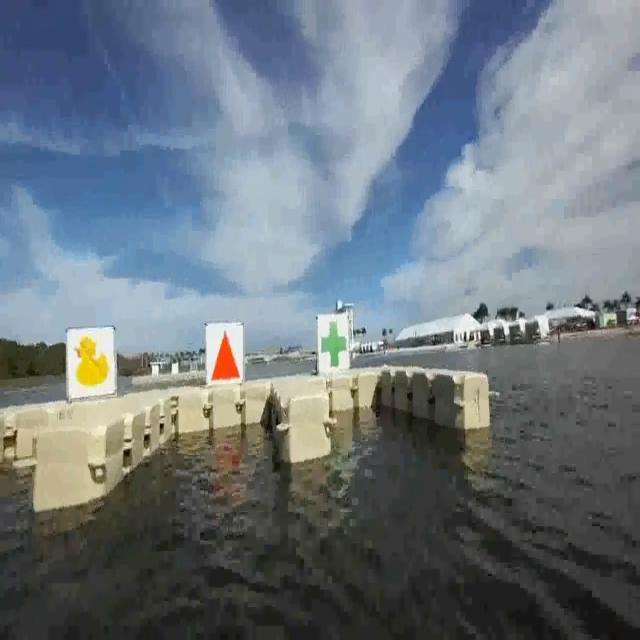blue-cross: (319, 310, 352, 374)
red-dot: (206, 325, 244, 389)
yellow-duck: (74, 330, 109, 385)
